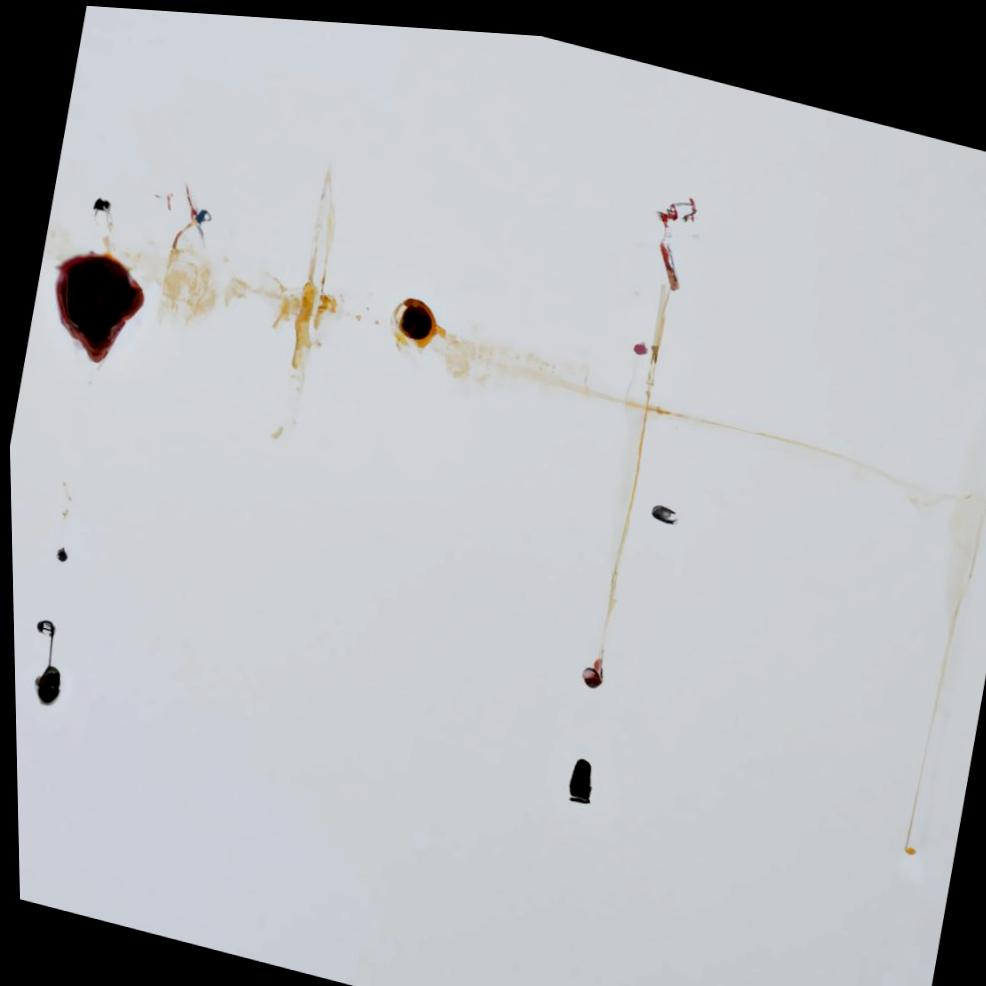Fire: (54, 248, 144, 361)
